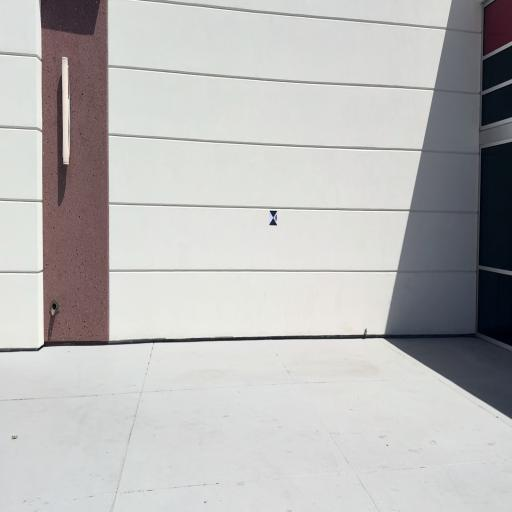target4: (269, 210, 278, 226)
